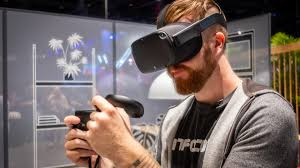oculus: (130, 21, 206, 75)
